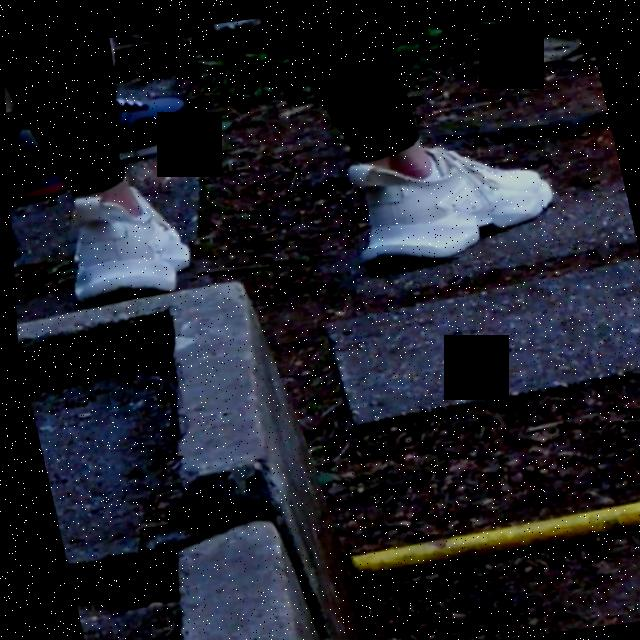shoe: (334, 125, 570, 276), (48, 177, 197, 308)
